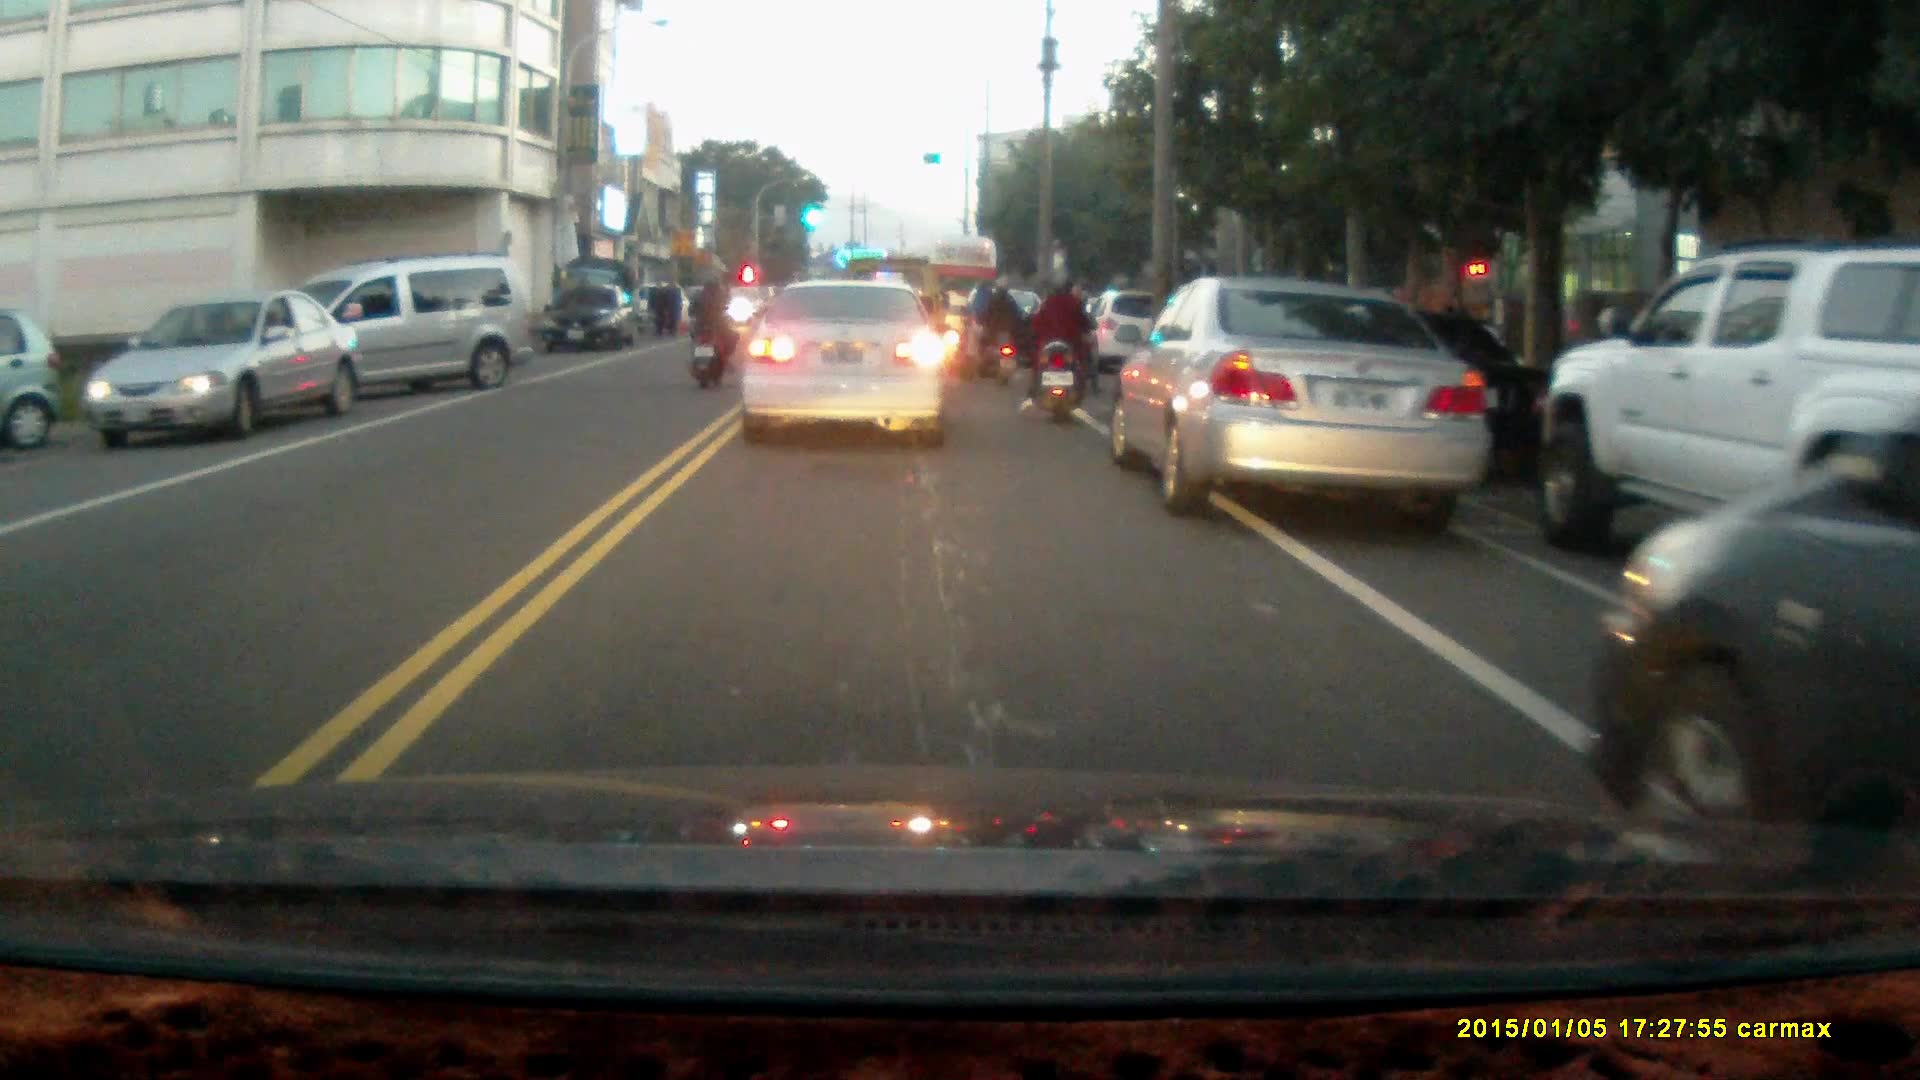pedestrian: (646, 275, 671, 339), (660, 277, 681, 336)
rider: (1018, 266, 1100, 424), (957, 269, 1022, 383), (686, 275, 735, 388)
vehicle: (1593, 402, 1920, 868), (1531, 244, 1920, 557), (1106, 269, 1489, 518), (243, 255, 538, 415), (88, 292, 360, 445), (738, 277, 950, 453), (1, 296, 63, 451), (540, 282, 639, 353)
